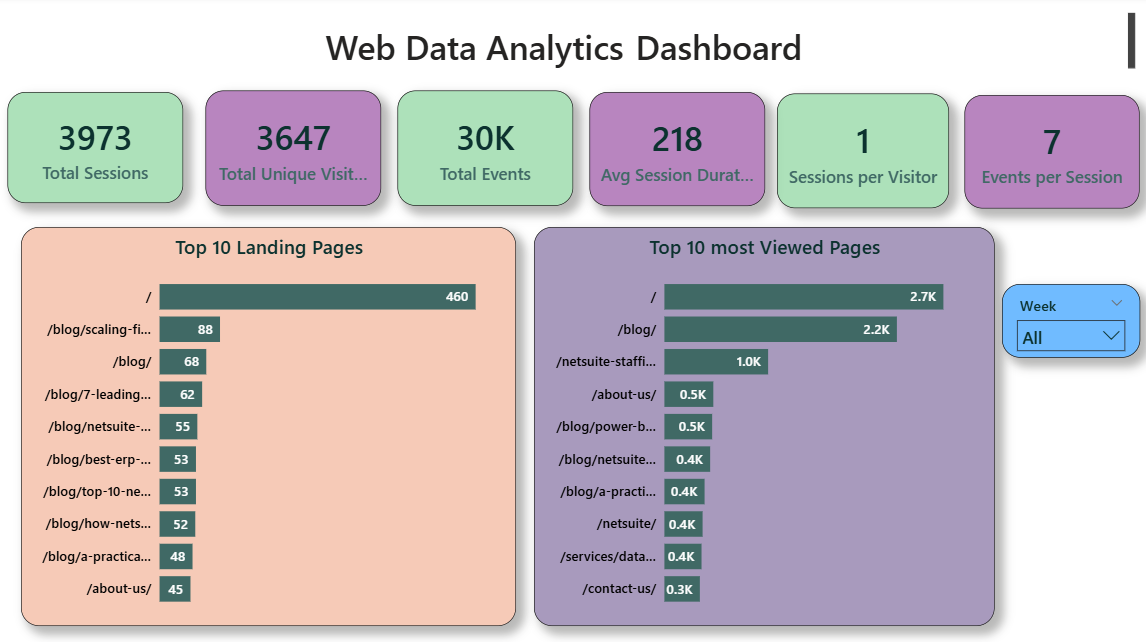

This screenshot's page, from the dashboard's own definition file:
{"tool":"powerbi","page":{"name":"Part 1","canvas":[1280,720],"ordinal":0},"visuals":[{"type":"card","fields":{"Values":["CountNonNull(Session.id)"]},"box":[14.9,106,193.8,122.6],"z":0},{"type":"card","fields":{"Values":["Count(Visitor.id)"]},"box":[233.6,104.4,193.8,127.5],"z":1000},{"type":"card","fields":{"Values":["CountNonNull(Event.id)"]},"box":[445.6,104.4,193.8,127.5],"z":2000},{"type":"card","fields":{"Values":["Avg(Session.Session Duration (seconds))"]},"box":[657.6,106,193.8,125.9],"z":3000},{"type":"card","fields":{"Values":["Sum(Session.Sessions_per_Visitor)"]},"box":[865,108.3,190,126.7],"z":4000},{"type":"clusteredBarChart","title":"Top 10 Landing Pages","fields":{"Category":["Session.landing_page"],"Y":["CountNonNull(Session.id)"]},"box":[29.8,255.1,546.6,440.6],"z":6000},{"type":"barChart","title":"Top 10 most Viewed Pages","fields":{"Category":["Event.page_path"],"Y":["CountNonNull(Event.id)"]},"box":[596.3,255.1,508.5,440.6],"z":7000},{"type":"slicer","fields":{"Values":["Date Table.Week Label"]},"box":[1113.2,318,152.4,81.2],"z":8000},{"type":"textbox","box":[14.9,13.3,1250.6,81.2],"z":9000},{"type":"image","box":[14.9,13.3,132.5,79.5],"z":10000},{"type":"card","fields":{"Values":["Session.Events per Session"]},"box":[1071.7,110,193.3,125],"z":10001}]}

Visuals, with their boxes in screenshot pixels (x1, y1, x2, y2), scaled from the page's 1280x720 canvas onto the 1146x642 screenshot:
card - CountNonNull(Session.id): (left=13, top=95, right=187, bottom=204)
card - Count(Visitor.id): (left=209, top=93, right=383, bottom=207)
card - CountNonNull(Event.id): (left=399, top=93, right=572, bottom=207)
card - Avg(Session.Session Duration (seconds)): (left=589, top=95, right=762, bottom=207)
card - Sum(Session.Sessions_per_Visitor): (left=774, top=97, right=945, bottom=210)
"Top 10 Landing Pages" clusteredBarChart: (left=27, top=227, right=516, bottom=620)
"Top 10 most Viewed Pages" barChart: (left=534, top=227, right=989, bottom=620)
slicer - Date Table.Week Label: (left=997, top=284, right=1133, bottom=356)
textbox: (left=13, top=12, right=1133, bottom=84)
image: (left=13, top=12, right=132, bottom=83)
card - Session.Events per Session: (left=960, top=98, right=1133, bottom=210)
